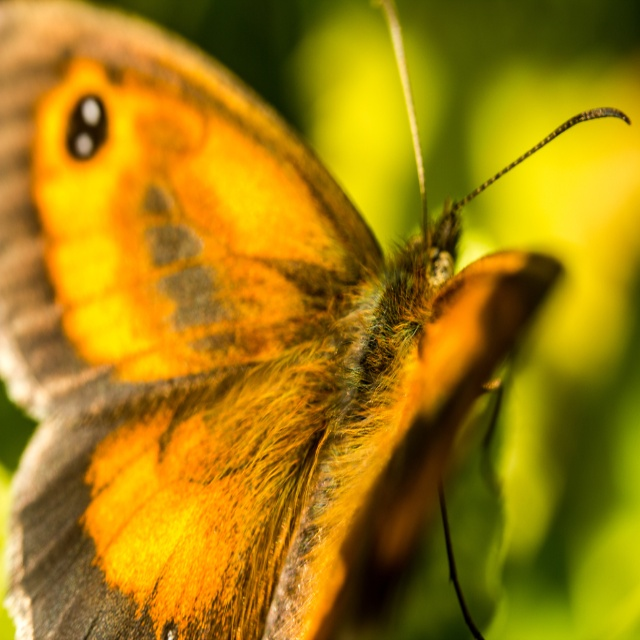Butterfly: (9, 2, 635, 638)
